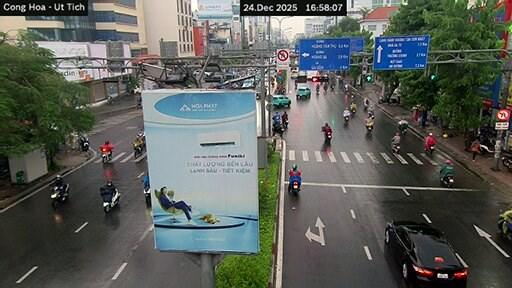motorbike: (50, 183, 68, 208), (101, 188, 119, 212), (497, 212, 511, 239), (288, 176, 300, 195), (501, 150, 511, 171), (79, 134, 89, 151), (440, 174, 453, 187), (143, 185, 151, 206), (101, 147, 110, 163), (133, 143, 142, 158), (273, 123, 283, 136), (324, 130, 331, 143), (426, 145, 435, 155), (399, 125, 407, 134), (136, 97, 142, 108), (392, 144, 399, 153), (282, 120, 288, 128), (366, 125, 372, 133), (350, 106, 356, 114), (107, 95, 112, 104), (344, 115, 349, 124), (316, 87, 320, 95), (344, 84, 348, 92), (330, 84, 334, 90), (323, 85, 327, 91), (294, 83, 297, 89)
